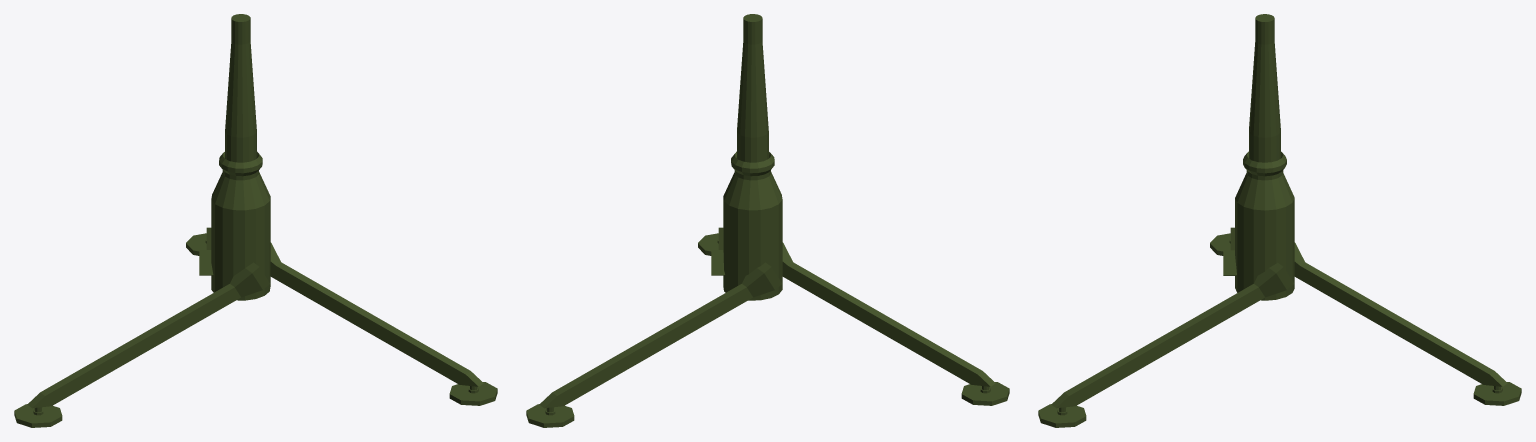
The model's file is rbs70_STAND_scaled_1_5_(EXPORT).glb.
The picture shows the model from 3 angles, left to right: view 1: azimuth 30°, elevation 25°; view 2: azimuth 150°, elevation 25°; view 3: azimuth 270°, elevation 25°; orthographic projection.
Parts seen in each view (by area): view 1: STAND MASTER; view 2: STAND MASTER; view 3: STAND MASTER.
Boxes of the visible parts, x1,y1,x2,y2 form: STAND MASTER: [14, 14, 497, 427]; STAND MASTER: [526, 14, 1009, 427]; STAND MASTER: [1038, 14, 1521, 427].
Bounding box in the file's own units: 9.07 × 7.44 × 9.7.
2 materials, 2 textured.
